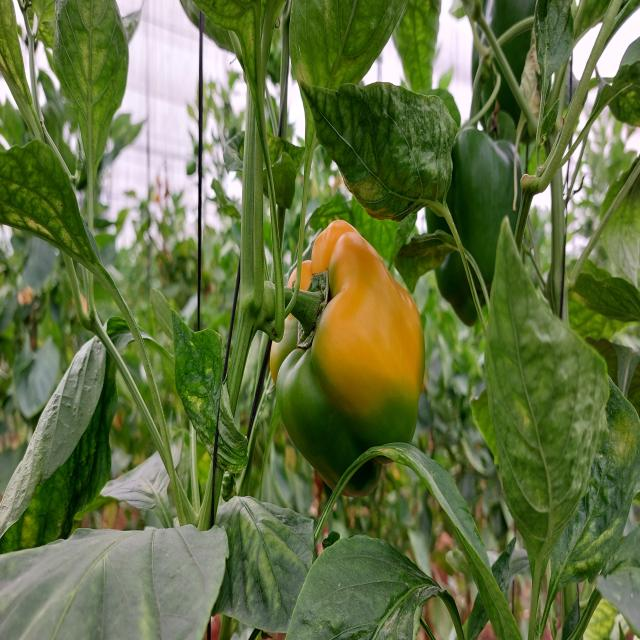GreenishYellow--Can-be-Harvested: (250, 187, 442, 523)
